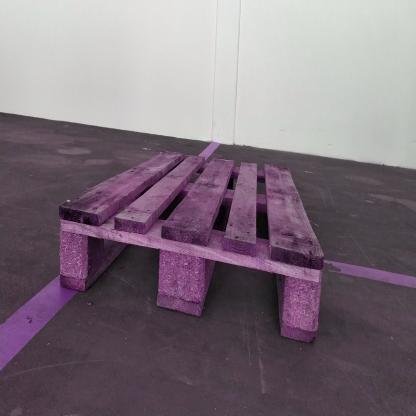BoxFace: (53, 145, 330, 349)
